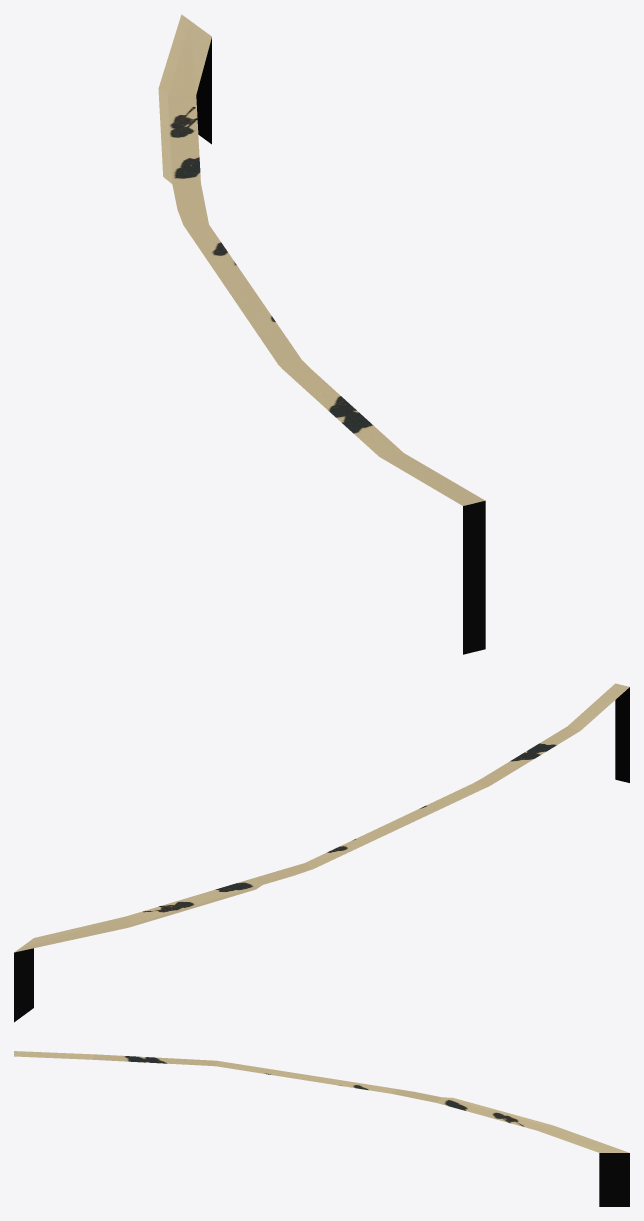
File: Main_Road.fbx
The picture shows the model from 3 angles, top to bottom: view 1: azimuth 30°, elevation 25°; view 2: azimuth 150°, elevation 25°; view 3: azimuth 270°, elevation 25°; orthographic projection. The views are drawn at different scales.
Parts seen in each view (by area): view 1: Main_Road; view 2: Main_Road; view 3: Main_Road.
Boxes of the visible parts, left/top/right/bottom form: Main_Road: left=158, top=14, right=485, bottom=654; Main_Road: left=14, top=683, right=629, bottom=1022; Main_Road: left=14, top=1051, right=629, bottom=1206.
Size of the model in its own units: 127 by 53.35 by 401.
Materials: 1 (1 with a texture image).
